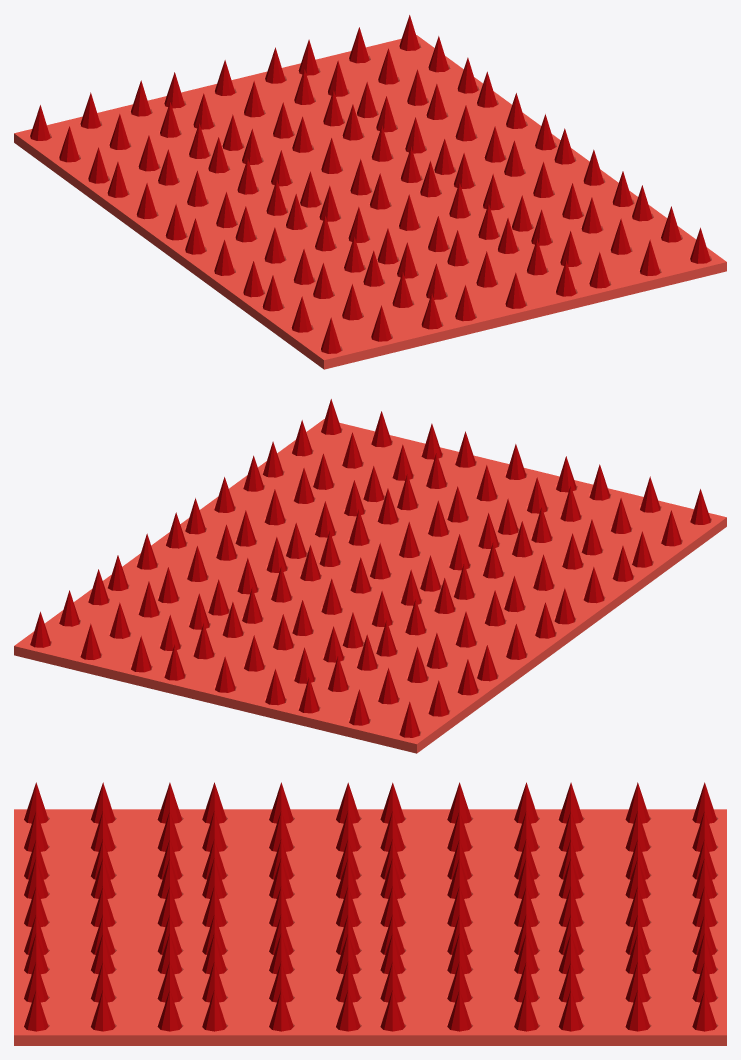
Rendered from Spikes.fbx.
The picture shows the model from 3 angles, top to bottom: view 1: azimuth 30°, elevation 25°; view 2: azimuth 150°, elevation 25°; view 3: azimuth 270°, elevation 25°; orthographic projection. The views are drawn at different scales.
Parts seen in each view (by area): view 1: Spikes.001; view 2: Spikes.001; view 3: Spikes.001.
Part boxes in pixels (x1,y1,x2,y2): Spikes.001: [14, 15, 726, 369]; Spikes.001: [14, 399, 726, 753]; Spikes.001: [14, 782, 726, 1045].
Size of the model in its own units: 4.5 by 0.44 by 6.
